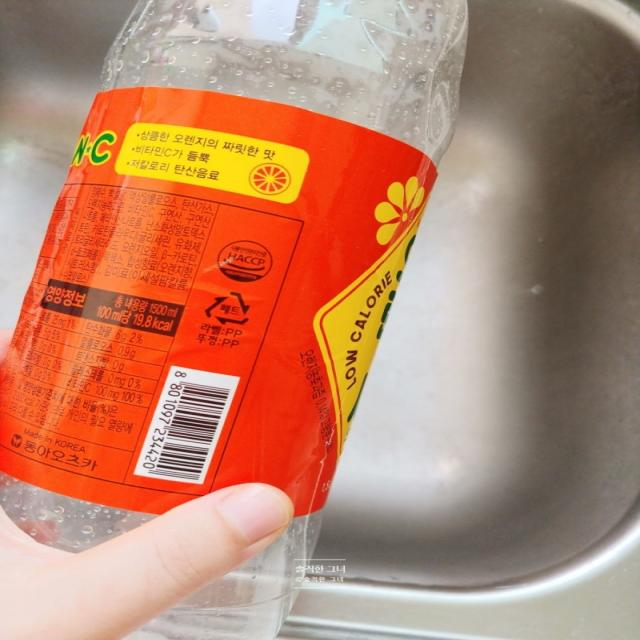PET: (204, 289, 253, 327)
